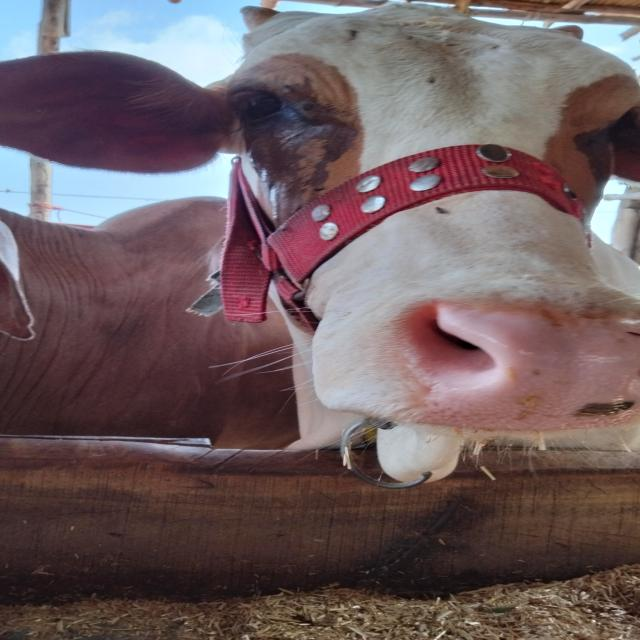muzzles: (383, 295, 640, 441)
